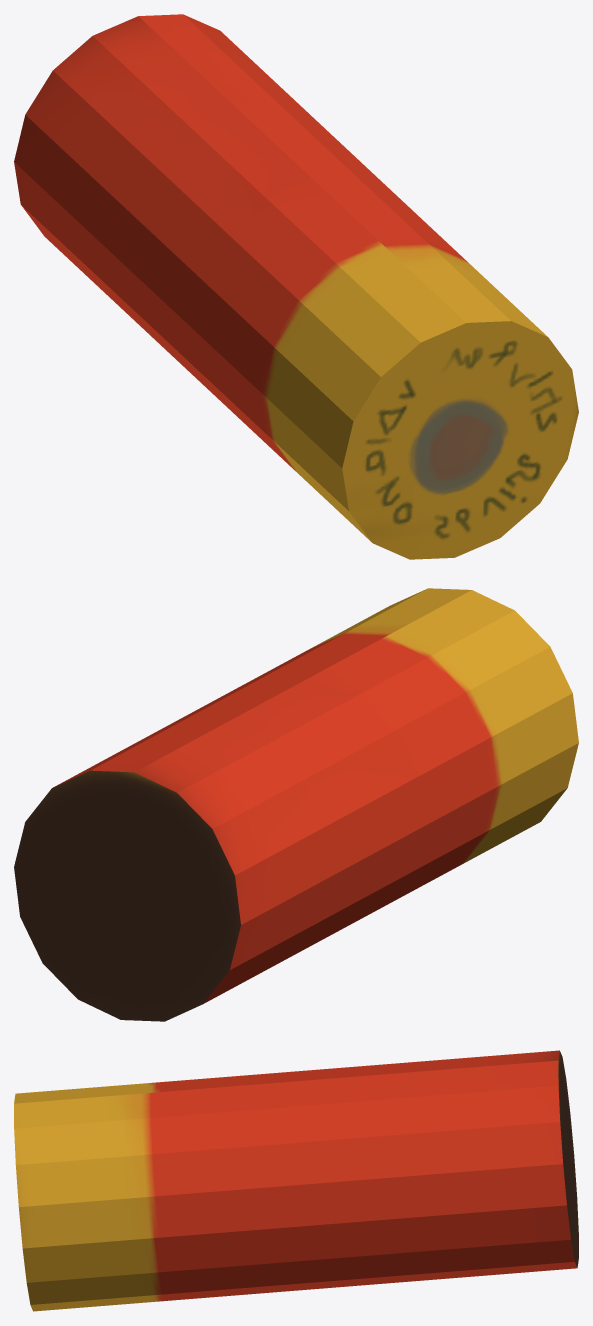
Rendered from shell left.glb.
3 renders of one model, top to bottom at view 1: azimuth 30°, elevation 25°; view 2: azimuth 150°, elevation 25°; view 3: azimuth 270°, elevation 25°, orthographic. The views are drawn at different scales.
Parts seen in each view (by area): view 1: shell left; view 2: shell left; view 3: shell left.
Boxes of the visible parts, box(x1,y1,x2,y2) form: shell left: box(14, 14, 578, 559); shell left: box(14, 588, 578, 1021); shell left: box(14, 1050, 578, 1311).
Size of the model in its own units: 0.0237 by 0.0281 by 0.059.
Materials: 1 (1 with a texture image).
